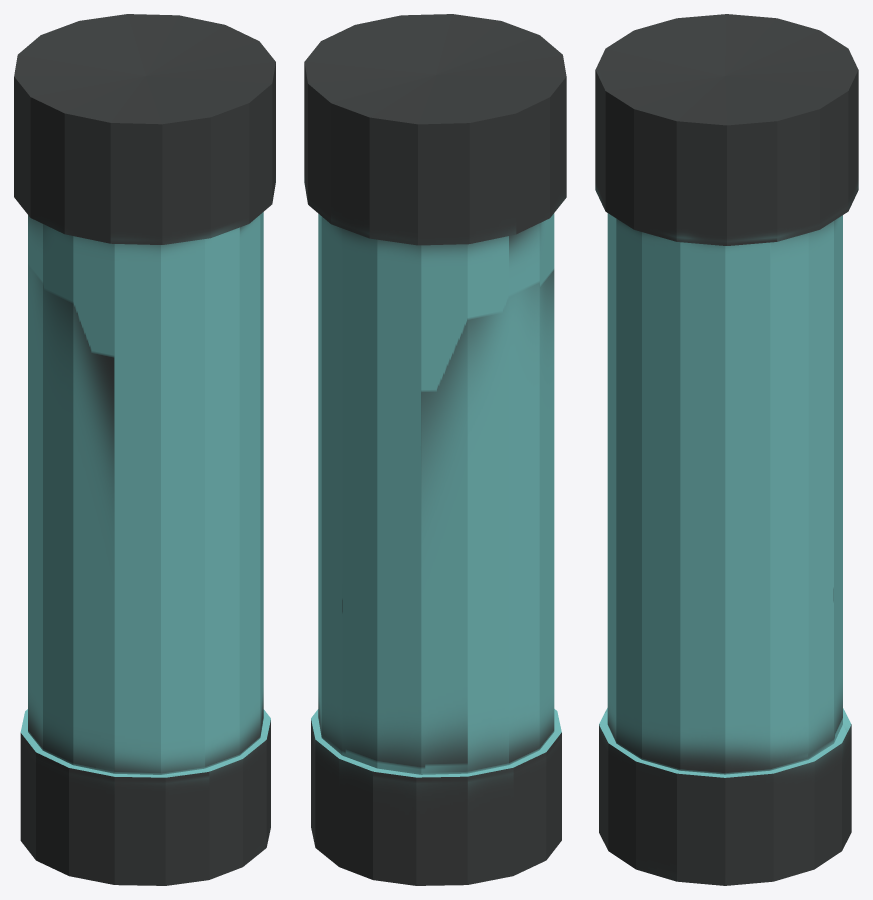
3 renders of one model, left to right at view 1: azimuth 30°, elevation 25°; view 2: azimuth 150°, elevation 25°; view 3: azimuth 270°, elevation 25°, orthographic.
Parts seen in each view (by area): view 1: Cylinder; view 2: Cylinder; view 3: Cylinder.
Boxes of the visible parts, x1,y1,x2,y2 form: Cylinder: (14,14,275,885); Cylinder: (304,14,566,885); Cylinder: (595,14,858,885).
Size of the model in its own units: 20.59 by 65.68 by 20.52.
1 material, 1 textured.
